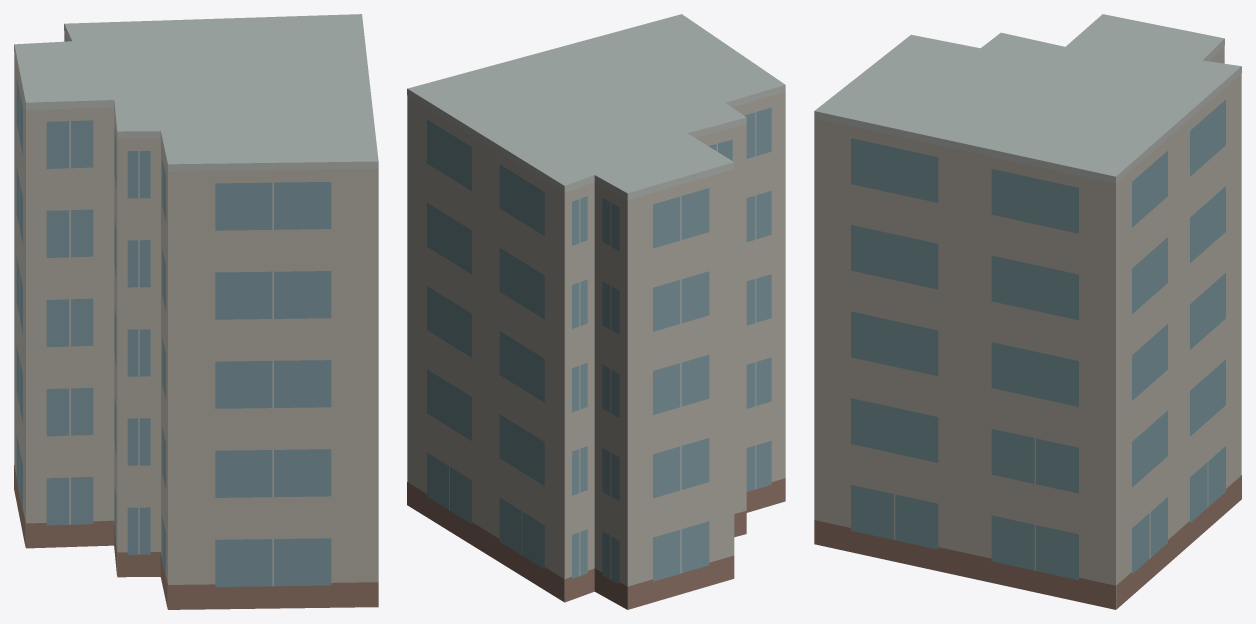
File: survey-upis-32523964.glb
The picture shows the model from 3 angles, left to right: view 1: azimuth 30°, elevation 25°; view 2: azimuth 150°, elevation 25°; view 3: azimuth 270°, elevation 25°; orthographic projection. The views are drawn at different scales.
Parts seen in each view (by area): view 1: survey-upis-32523964.tmp; view 2: survey-upis-32523964.tmp; view 3: survey-upis-32523964.tmp.
Boxes of the visible parts, x1,y1,x2,y2 form: survey-upis-32523964.tmp: (14, 14, 378, 609); survey-upis-32523964.tmp: (407, 14, 785, 609); survey-upis-32523964.tmp: (814, 14, 1241, 609).
Bounding box in the file's own units: 11.93 × 14.8 × 13.24.
